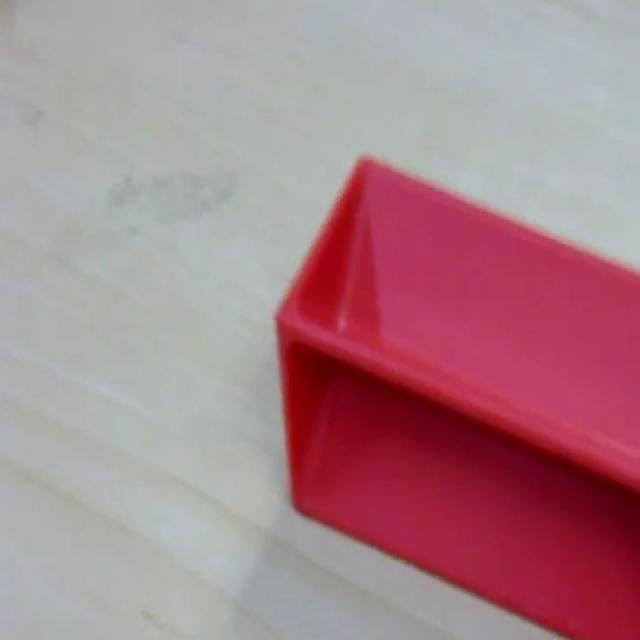red_block: (272, 151, 638, 636)
